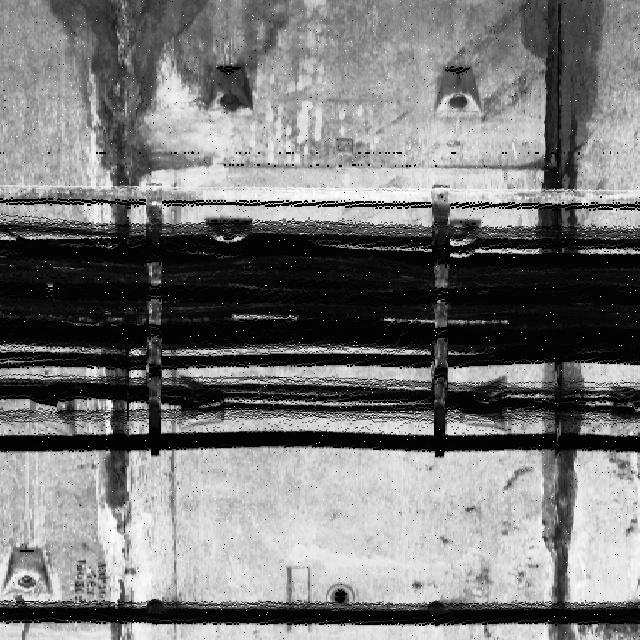leakage: (41, 0, 207, 226), (516, 0, 605, 248), (524, 353, 592, 639), (79, 350, 146, 636)
